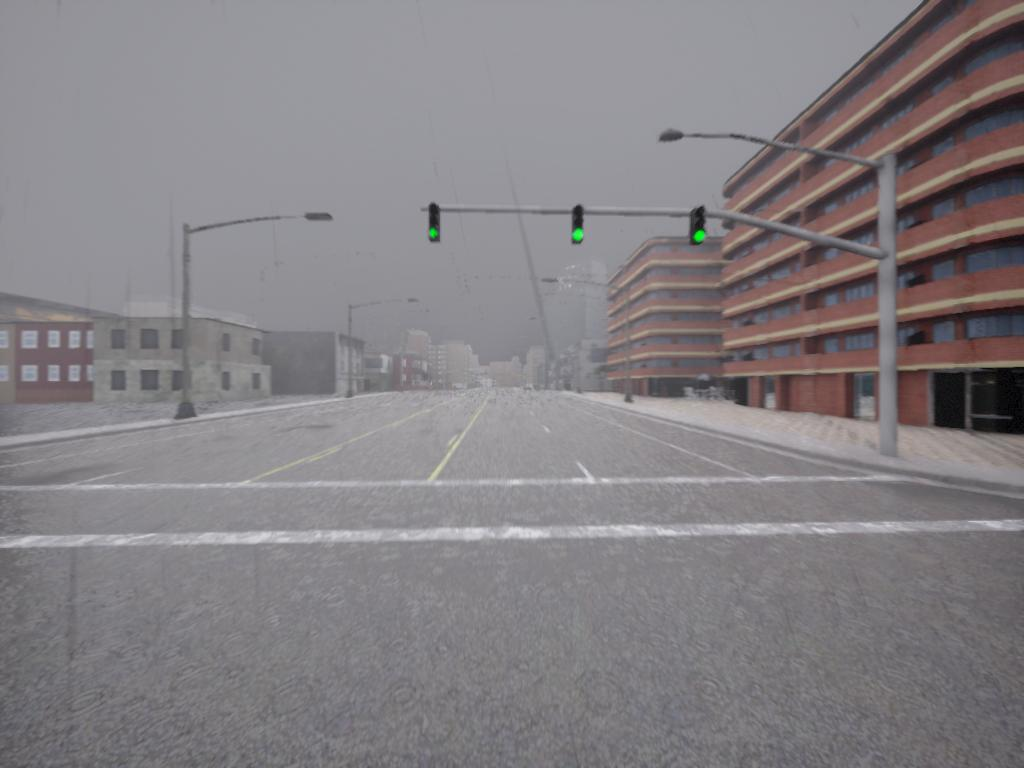traffic_light: (692, 207, 709, 246), (428, 206, 445, 245), (574, 207, 589, 247)
